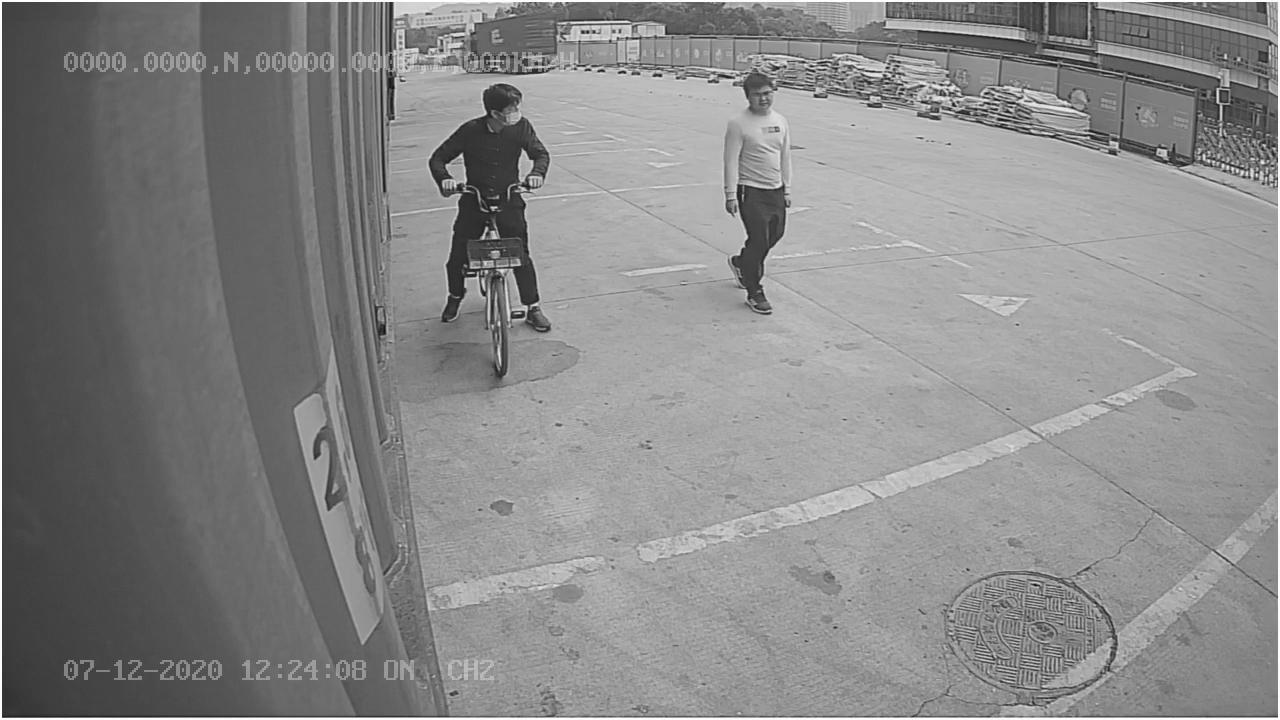person: (712, 69, 799, 319)
